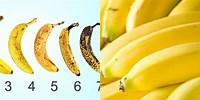banana: (101, 0, 200, 100), (34, 21, 59, 75), (9, 23, 37, 71), (56, 22, 80, 77), (79, 23, 99, 69)
